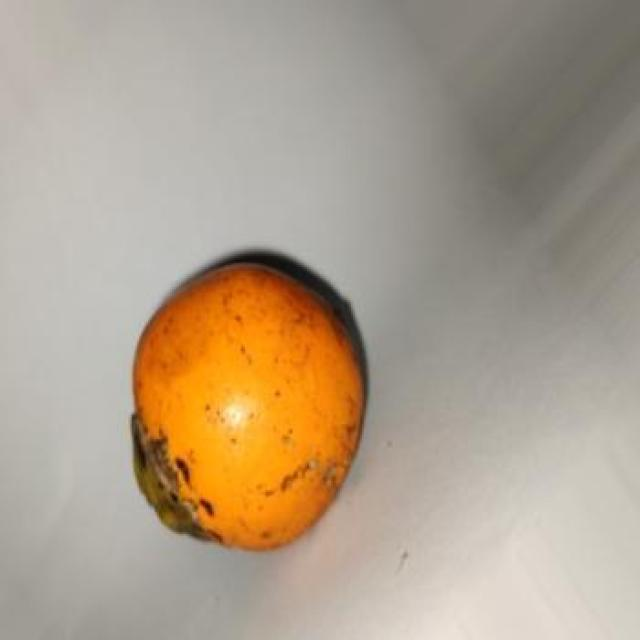good: (132, 251, 369, 554)
